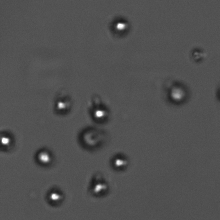Dead Cell: (77, 127, 108, 152), (190, 47, 206, 63)
Living Cell: (165, 79, 190, 107), (109, 152, 130, 173), (109, 16, 130, 36), (89, 177, 110, 197), (51, 94, 71, 114), (89, 103, 109, 123), (45, 187, 66, 205), (33, 148, 53, 166), (1, 131, 17, 151)
